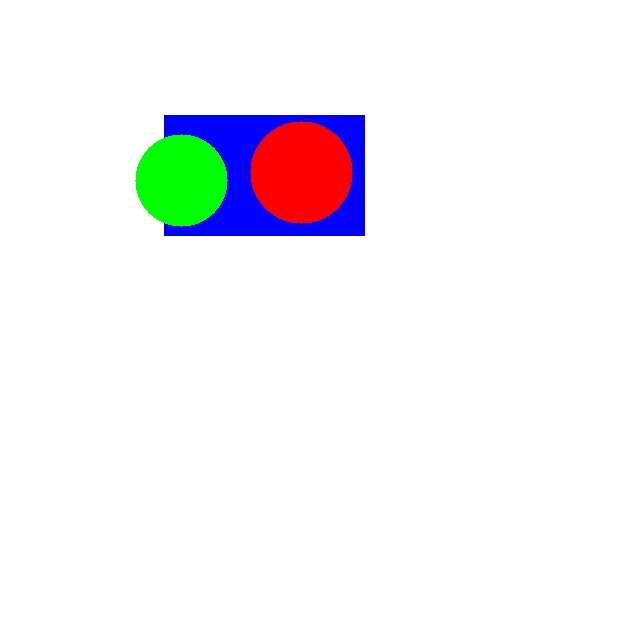cartao: (164, 115, 364, 235)
rosca_externa: (135, 134, 227, 226)
rosca_interna: (250, 121, 352, 223)
